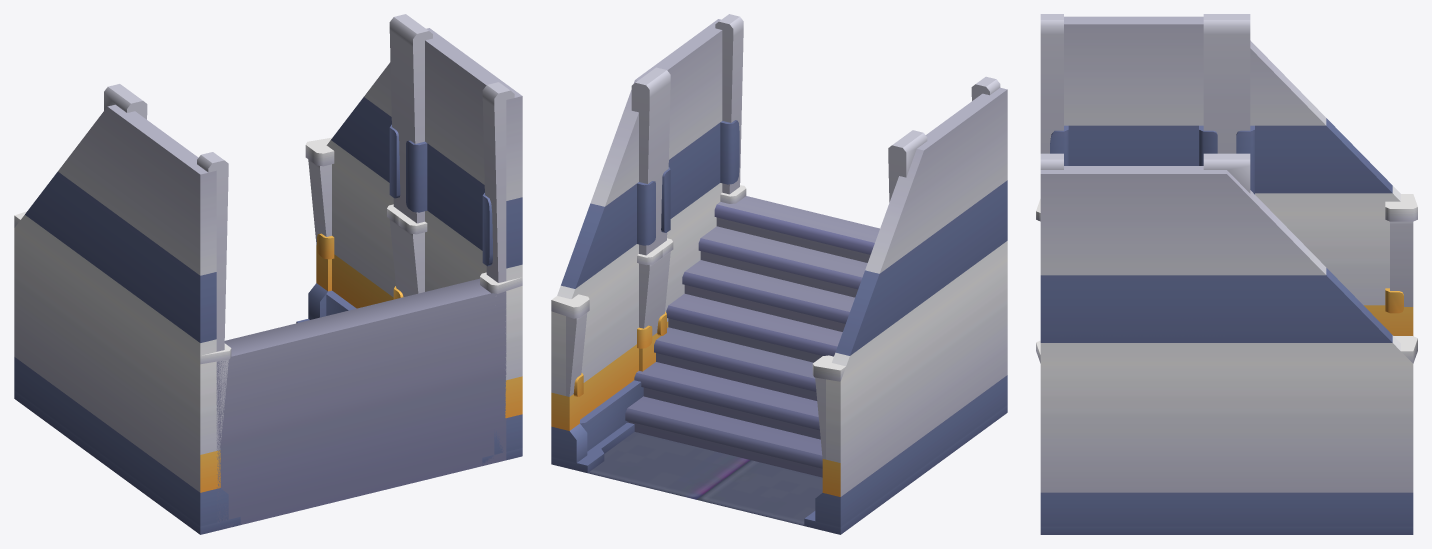
The model's file is stairs-wide.glb.
3 views of the same model, side by side, from view 1: azimuth 30°, elevation 25°; view 2: azimuth 150°, elevation 25°; view 3: azimuth 270°, elevation 25° (orthographic). The views are drawn at different scales.
Parts seen in each view (by area): view 1: stairs-wide; view 2: stairs-wide; view 3: stairs-wide.
Boxes of the visible parts, x1,y1,x2,y2 form: stairs-wide: [14, 14, 522, 534]; stairs-wide: [551, 14, 1007, 534]; stairs-wide: [1036, 14, 1417, 534].
Size of the model in its own units: 8 by 8.75 by 8.2.
1 material, 1 textured.
